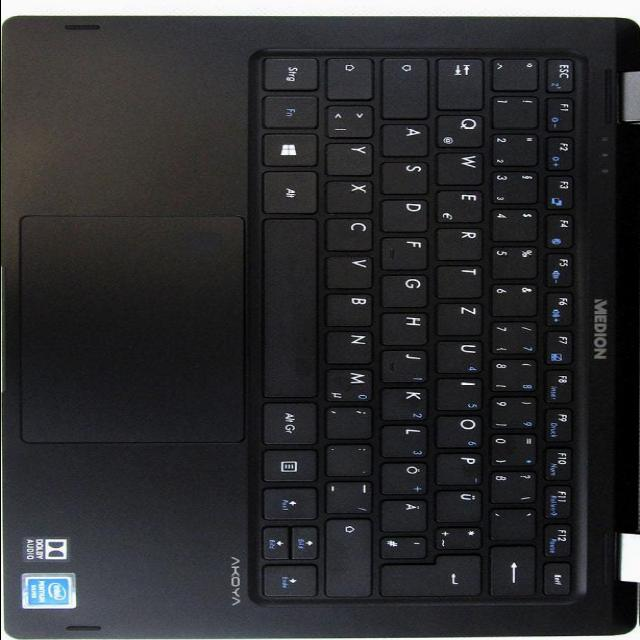0: (490, 432, 539, 466)
1: (492, 94, 542, 128)
2: (492, 132, 541, 166)
3: (492, 169, 542, 203)
4: (492, 207, 542, 240)
5: (492, 244, 541, 278)
6: (492, 282, 541, 316)
7: (491, 320, 541, 353)
8: (491, 357, 540, 390)
9: (490, 394, 540, 428)
a: (383, 122, 433, 156)
accent: (491, 506, 540, 539)
ae: (382, 497, 431, 531)
alt-left: (264, 169, 322, 213)
altgr-right: (264, 399, 322, 443)
b: (327, 291, 377, 326)
c: (327, 216, 378, 250)
caret: (493, 56, 542, 89)
comma: (325, 405, 376, 438)
d: (382, 197, 432, 231)
del: (491, 543, 541, 595)
e: (436, 188, 487, 222)
enter: (380, 553, 486, 596)
f: (383, 235, 432, 269)
g: (382, 273, 432, 306)
h: (382, 310, 431, 344)
hash: (382, 535, 432, 557)
i: (437, 376, 485, 410)
j: (382, 348, 430, 382)
k: (382, 386, 430, 419)
keyboard: (247, 43, 593, 609)
l: (382, 423, 430, 456)
less: (328, 102, 379, 136)
m: (327, 367, 377, 401)
minus: (328, 478, 377, 512)
n: (328, 328, 377, 362)
o: (436, 413, 486, 447)
oe: (382, 461, 430, 493)
p: (436, 451, 486, 484)
plus: (437, 525, 486, 547)
point: (328, 441, 377, 475)
q: (437, 113, 487, 147)
r: (437, 225, 487, 259)
s: (382, 160, 432, 194)
shift-left: (328, 54, 379, 98)
shift-lock: (383, 55, 435, 117)
shift-right: (327, 516, 378, 596)
space: (263, 216, 323, 396)
ss: (491, 470, 539, 503)
strg-left: (264, 55, 324, 90)
t: (437, 264, 486, 297)
tab: (438, 55, 489, 108)
u: (436, 338, 486, 372)
ue: (436, 488, 485, 521)
v: (327, 254, 377, 288)
w: (437, 150, 488, 184)
x: (327, 179, 377, 212)
y: (327, 141, 377, 175)
z: (437, 301, 487, 335)
